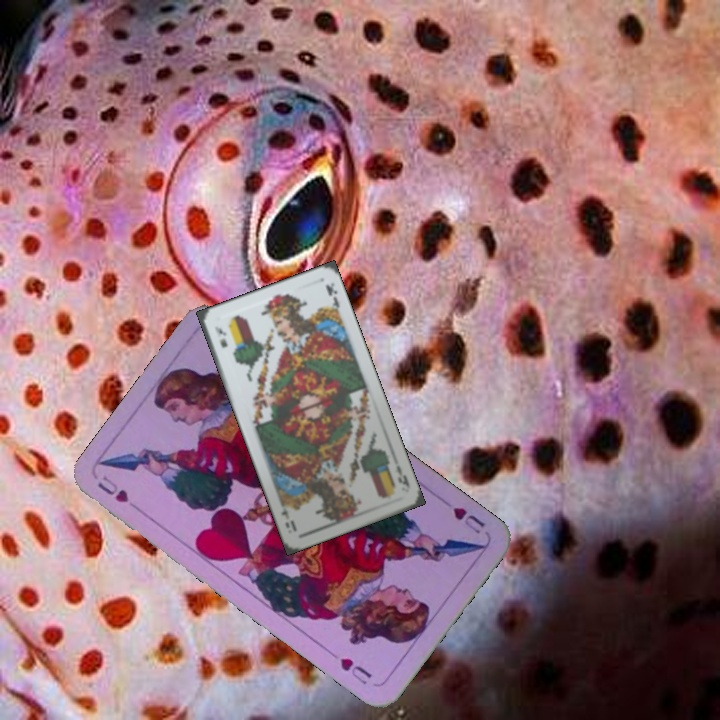EK: (210, 321, 230, 350), (392, 461, 412, 490)
HU: (93, 471, 144, 515), (449, 503, 487, 537)
